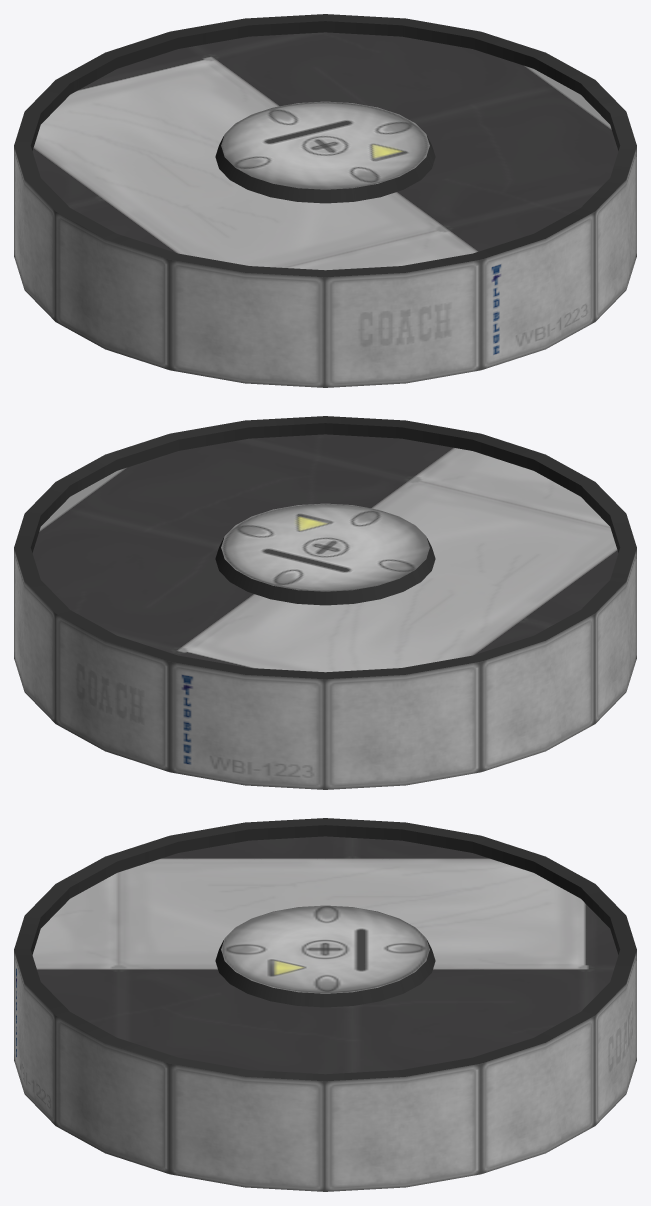
The model's file is Coach300.FBX.
3 views of the same model, one above another, from view 1: azimuth 30°, elevation 25°; view 2: azimuth 150°, elevation 25°; view 3: azimuth 270°, elevation 25° (orthographic).
Parts seen in each view (by area): view 1: Cylinder001; view 2: Cylinder001; view 3: Cylinder001.
Boxes of the visible parts, left/top/right/bottom form: Cylinder001: left=14, top=14, right=636, bottom=387; Cylinder001: left=14, top=416, right=636, bottom=789; Cylinder001: left=14, top=818, right=636, bottom=1191.
Size of what is drawn, in the model's own units: 2.5 by 0.49 by 2.5.
